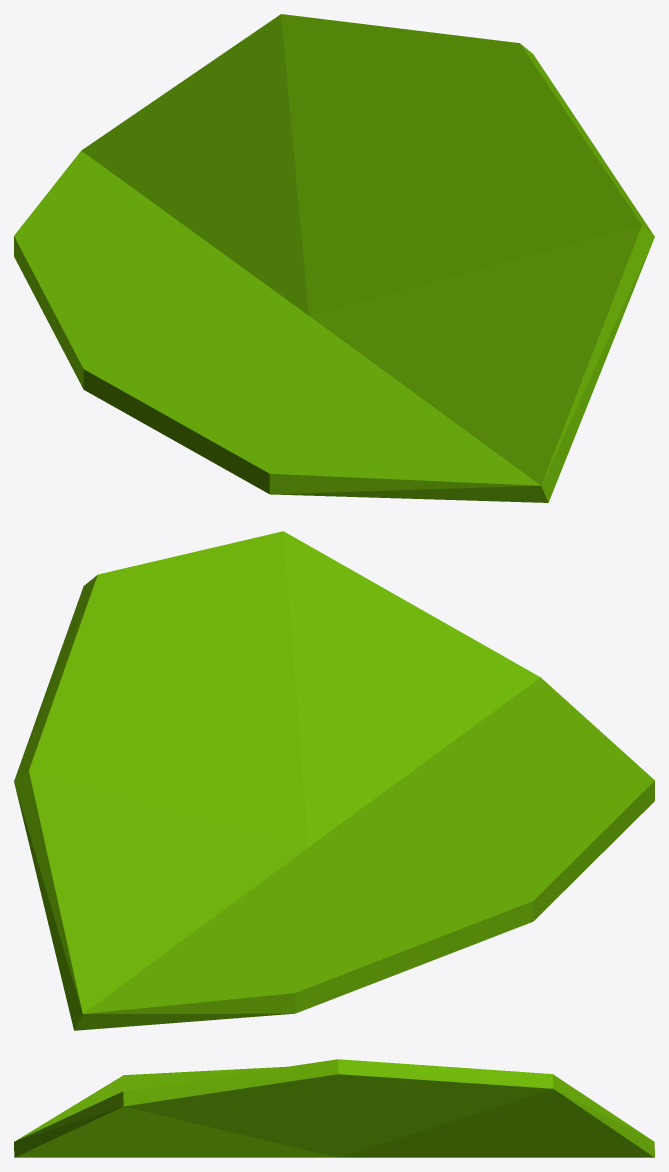
File: Leaf_3.fbx
3 renders of one model, top to bottom at view 1: azimuth 30°, elevation 25°; view 2: azimuth 150°, elevation 25°; view 3: azimuth 270°, elevation 25°, orthographic. The views are drawn at different scales.
Parts seen in each view (by area): view 1: Leaf.3; view 2: Leaf.3; view 3: Leaf.3.
Boxes of the visible parts, x1,y1,x2,y2 form: Leaf.3: (14, 14, 654, 502); Leaf.3: (14, 531, 654, 1030); Leaf.3: (14, 1059, 654, 1157).
Size of the model in its own units: 11.38 by 5.81 by 20.13.
